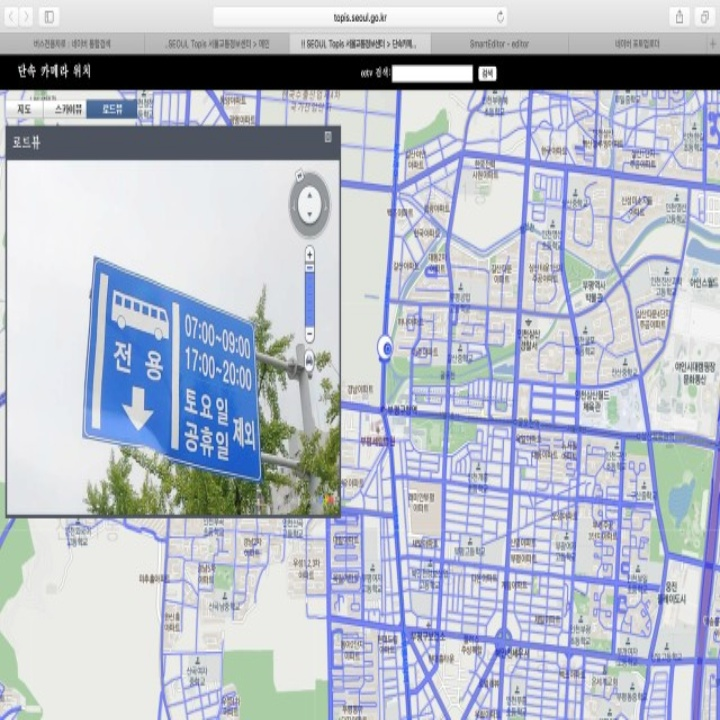bus: (102, 285, 174, 349)
